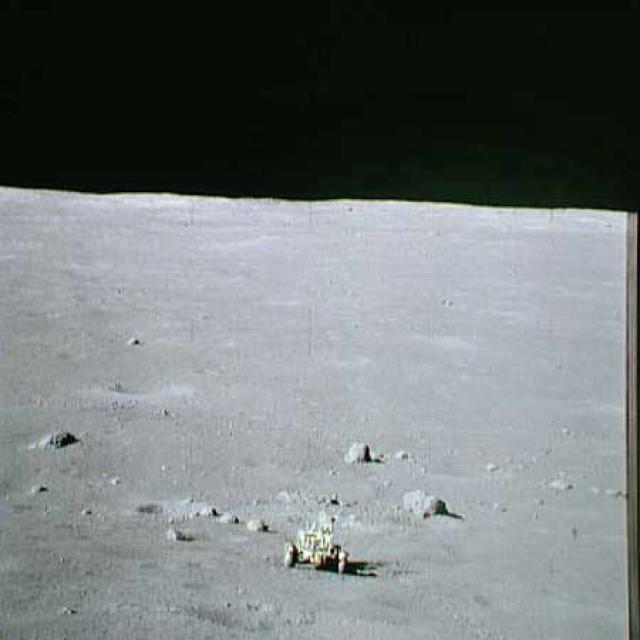artifact: (270, 490, 364, 578)
crater: (137, 488, 210, 524)
rock: (394, 484, 458, 525), (28, 417, 81, 458), (334, 431, 378, 469), (158, 520, 185, 548), (545, 470, 570, 496), (214, 504, 236, 530), (244, 511, 266, 535)
